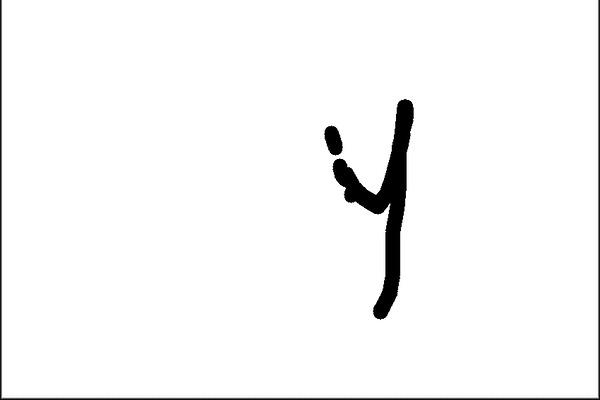Y: (311, 89, 431, 332)
